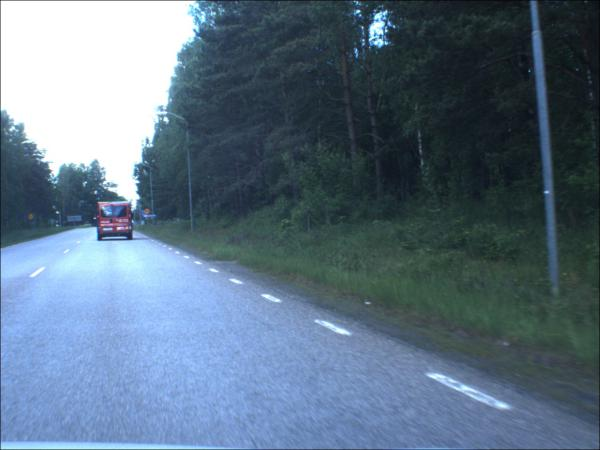50_SIGN: (146, 210, 153, 216), (29, 215, 36, 221)
